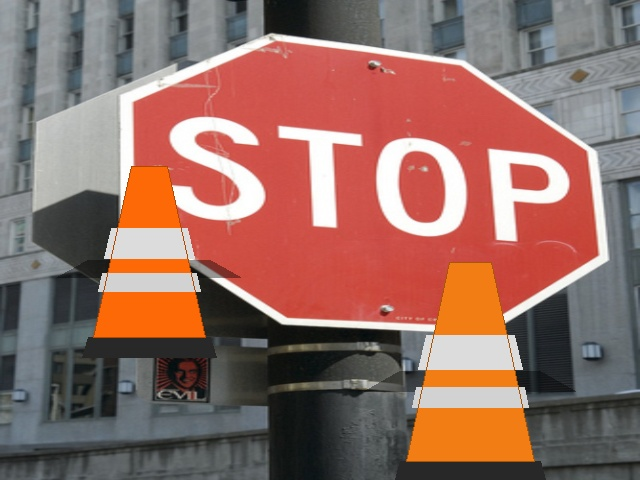traffic-cone: (394, 262, 546, 479), (82, 166, 216, 357)
